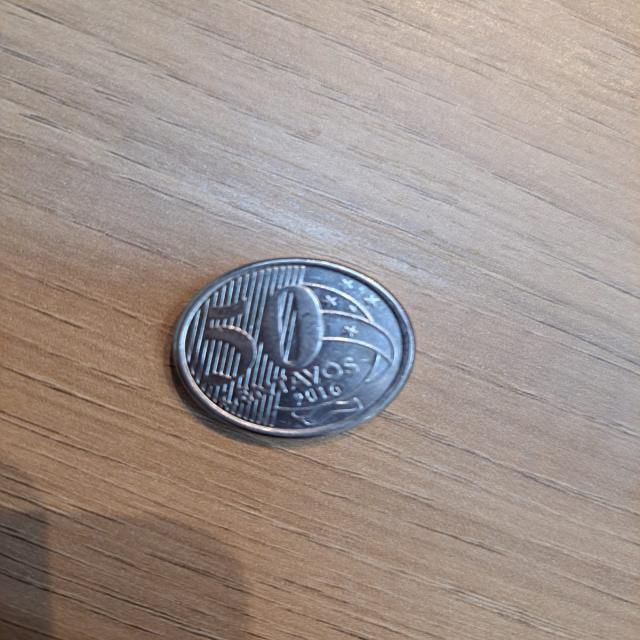50 cents: (157, 251, 427, 440)
